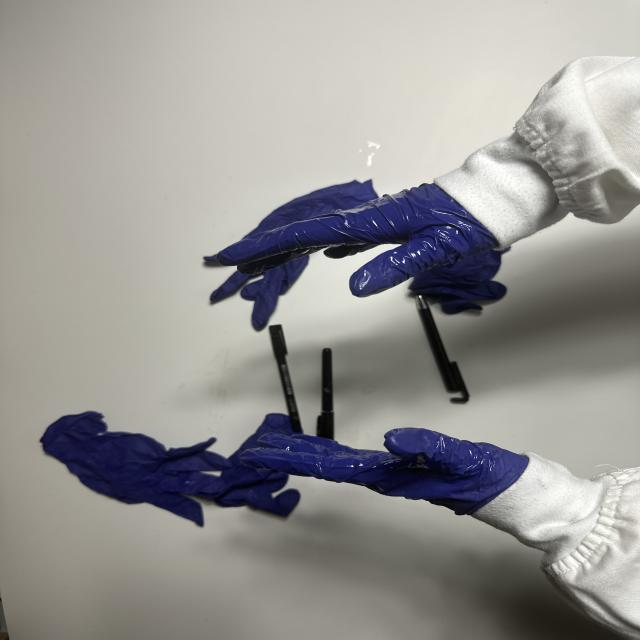gloves_contaminated: (218, 185, 498, 296), (243, 428, 529, 515)
